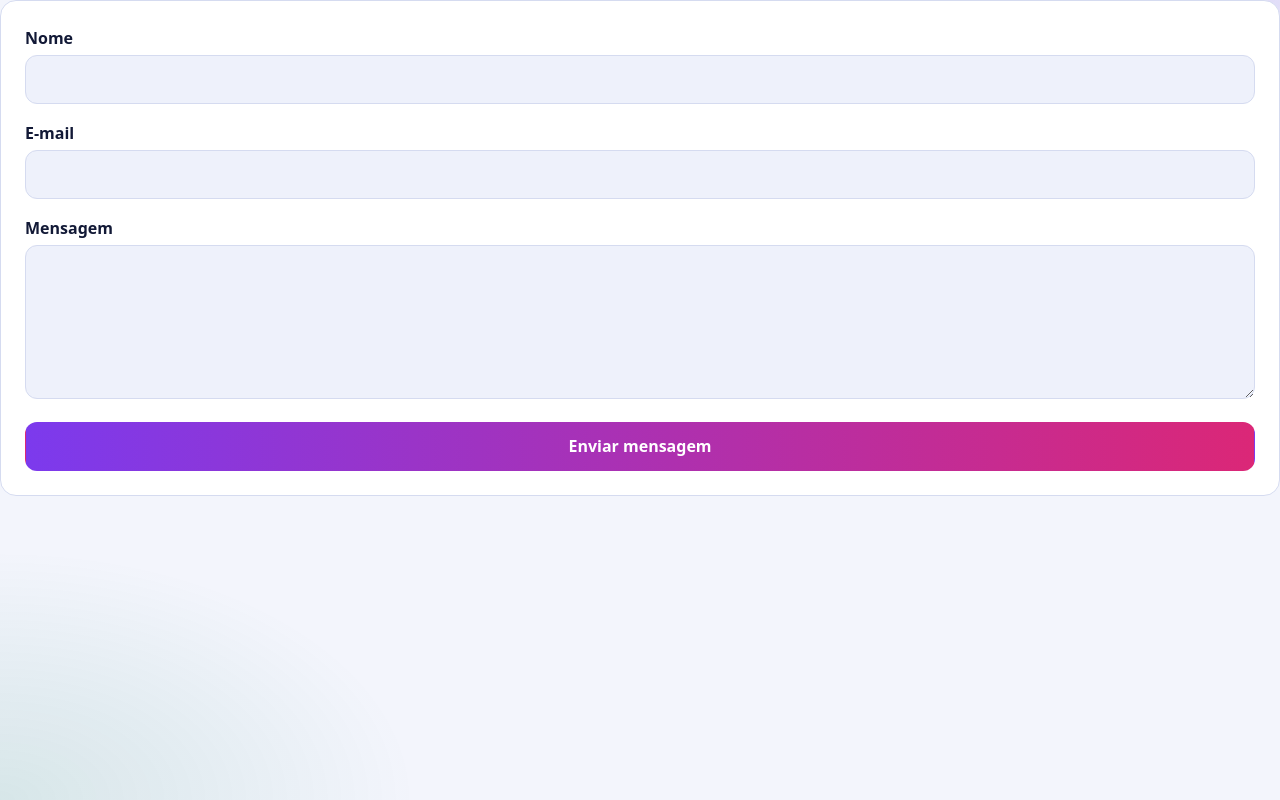
it: ContactForm › mostra uma mensagem específica para cada campo vazio
The width and height of the screenshot is (1280, 800).
Click the button "Enviar mensagem" at (640, 446), box [25,422,1255,471]
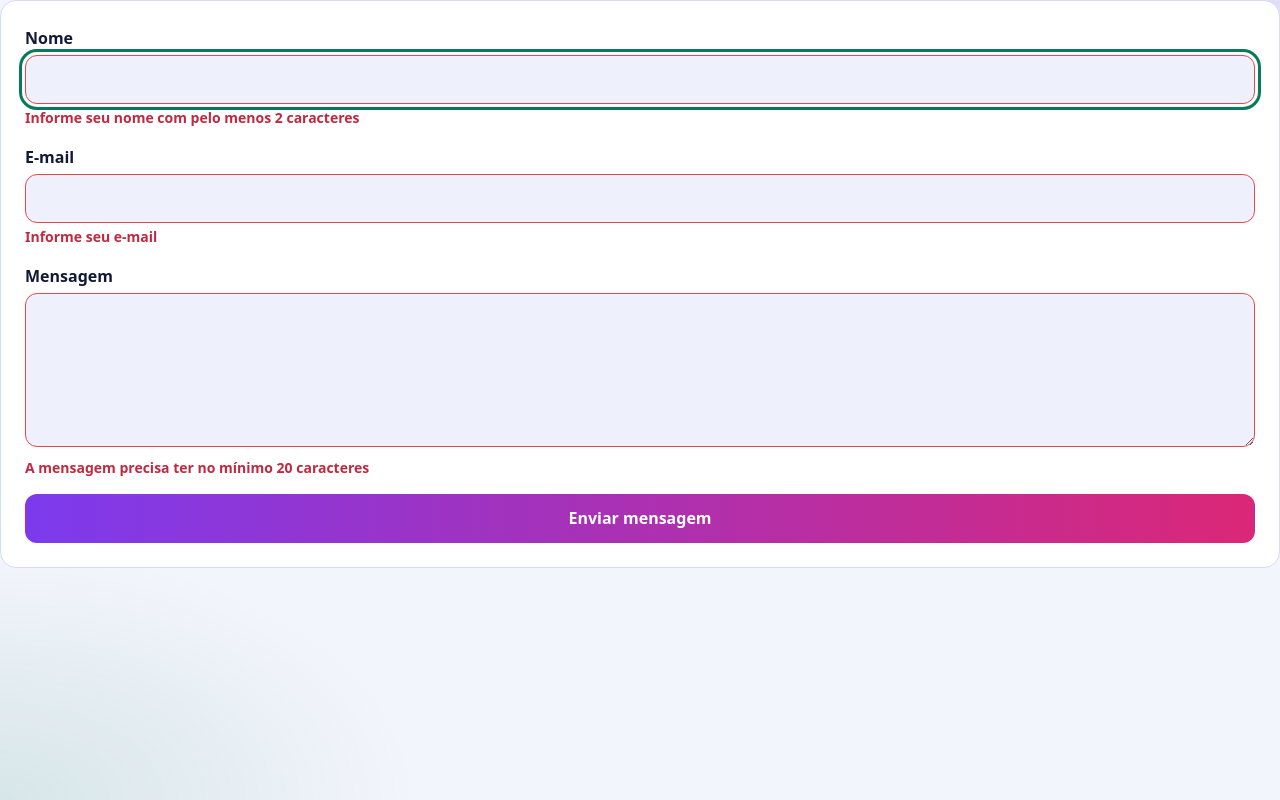
Expected: the text "Informe seu nome com pelo menos 2 caracteres" is shown, [25,108,360,127]
Expected: the text "Informe seu e-mail" is shown, [25,227,157,246]
Expected: the text "A mensagem precisa ter no mínimo 20 caracteres" is shown, [25,458,369,477]
